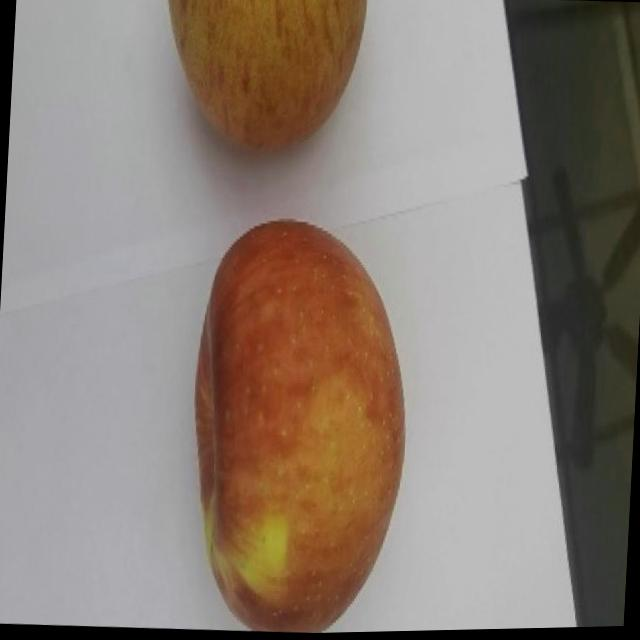Apple: (181, 211, 416, 637), (157, 0, 367, 159)
